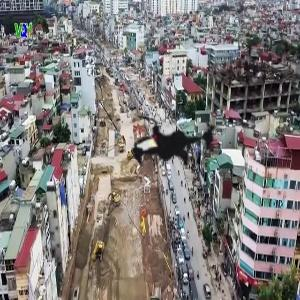drone: (105, 67, 244, 206)
